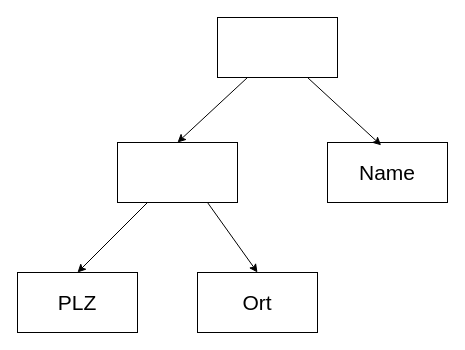
This 465x350 diagram has some shape labels left out. The box of each missing label's shape, as (x1, y1, x2, y2) in pixels:
Adresse: (116, 142, 238, 202)
Kunde: (216, 16, 338, 78)
